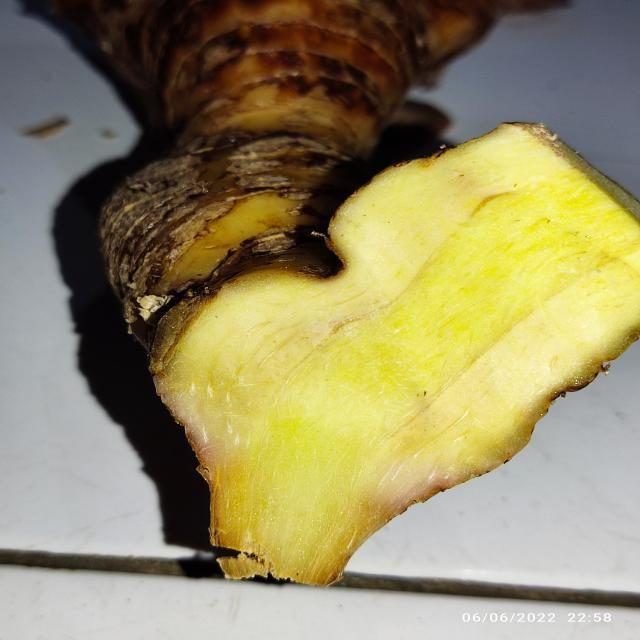ginger: (49, 0, 639, 565)
